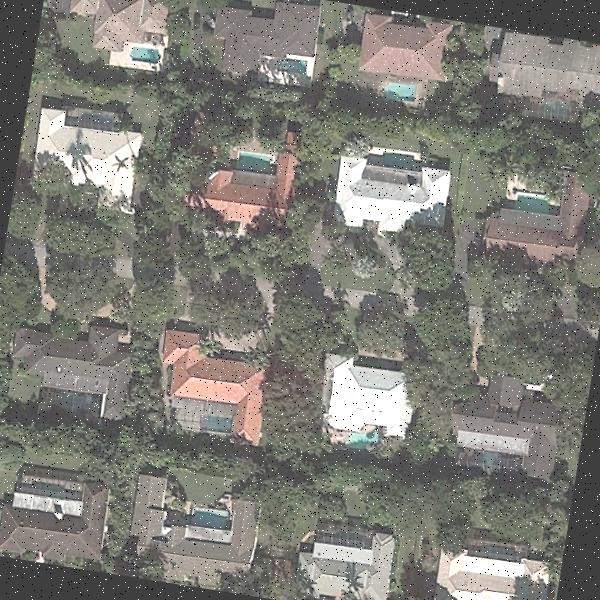Buildings: (154, 328, 272, 430), (22, 322, 136, 418), (22, 107, 143, 189), (319, 354, 416, 437), (338, 157, 444, 227), (435, 539, 547, 600), (452, 387, 542, 452), (502, 37, 600, 92), (486, 204, 582, 256), (360, 18, 444, 76), (215, 12, 308, 64), (9, 474, 87, 520), (75, 0, 161, 40), (196, 172, 268, 217), (306, 531, 378, 575), (175, 512, 235, 556), (186, 511, 230, 545)
